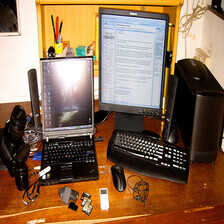laptop: (32, 52, 95, 194)
